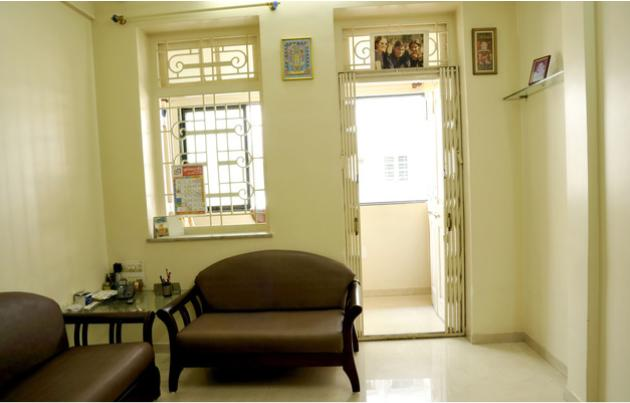sofa: (170, 247, 360, 386), (0, 290, 163, 403)
table: (60, 276, 194, 355)
